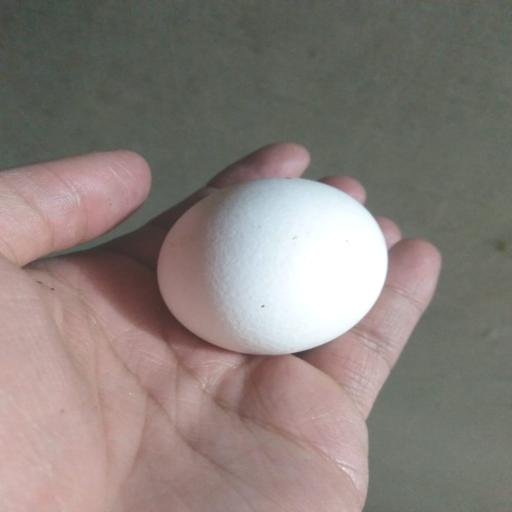telur: (152, 170, 392, 358)
